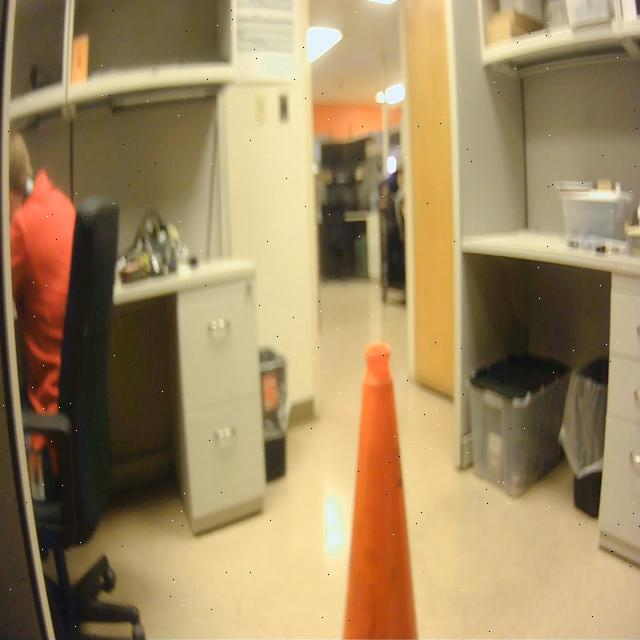traffic cone: (330, 336, 436, 640)
